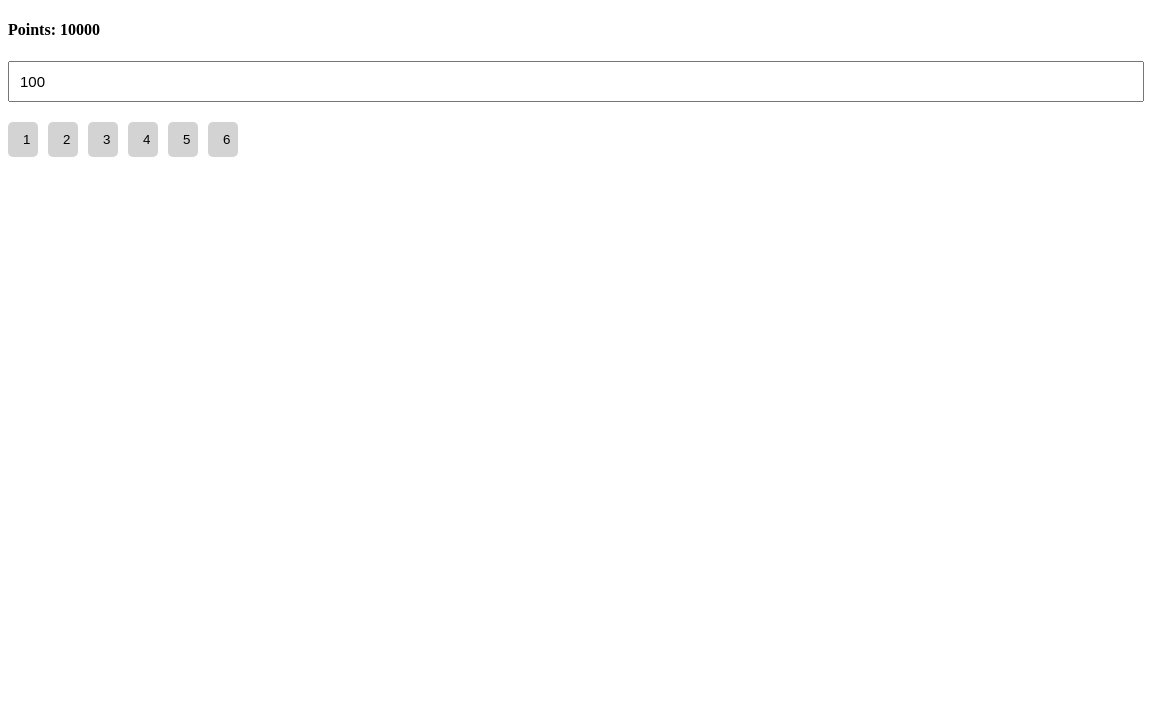
Scenario: Dice Component › displays correct game-result-message when player wins/loses with number 1
Replace the text in the number field with test id "Bet-Amount" with "1500": (576, 81) [8, 60, 1144, 102]
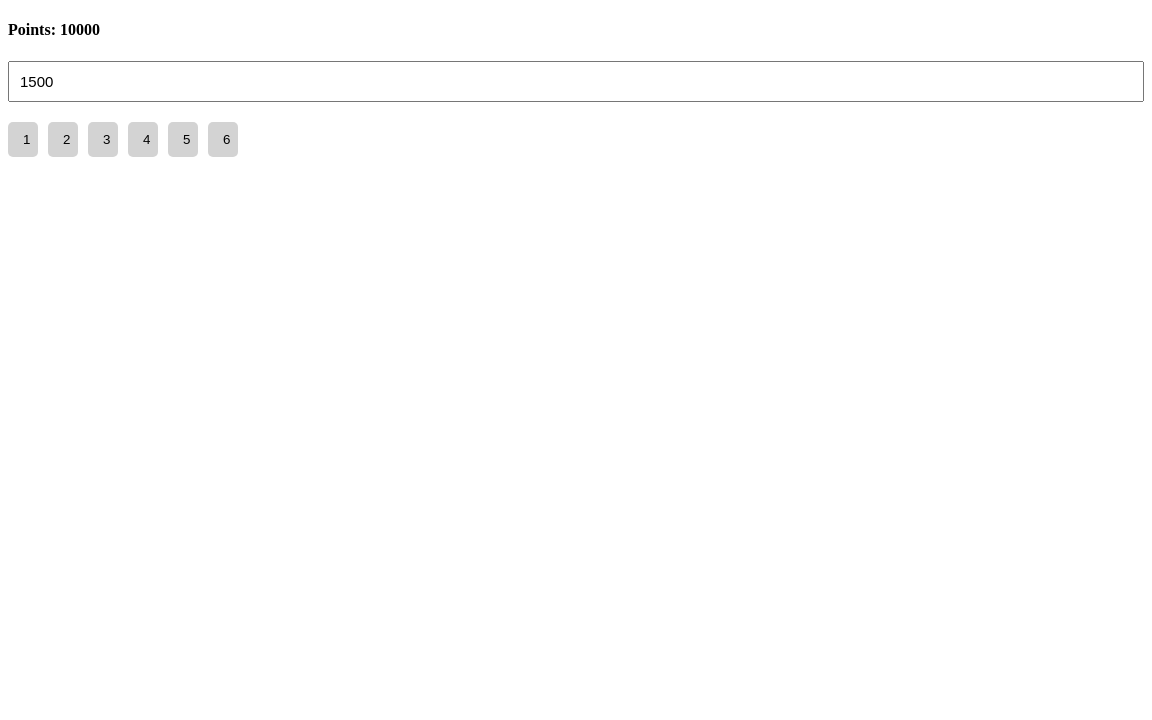
Click the button "1": (23, 139) [8, 122, 38, 156]
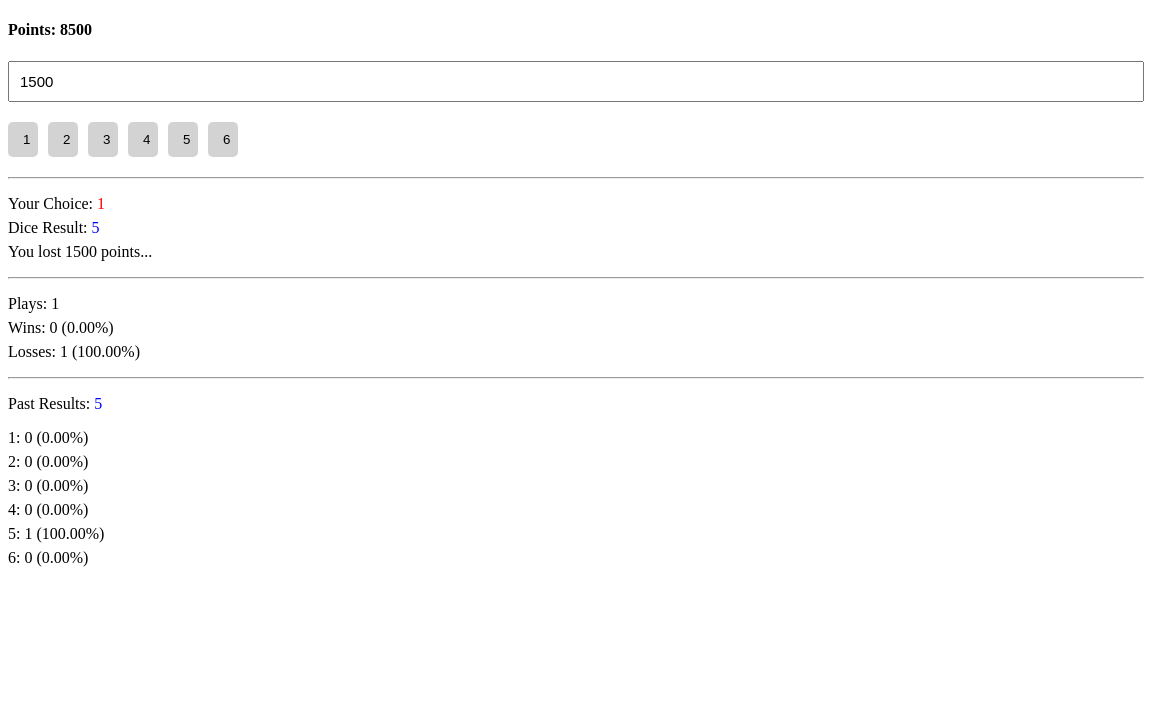
Expected: the text "You lost 1500 points..." is shown, [8, 242, 152, 260]
